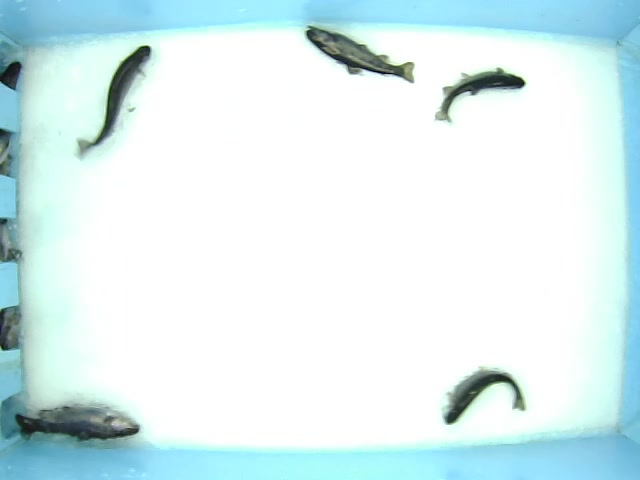fish: (414, 352, 543, 437), (70, 41, 165, 156), (293, 16, 417, 83), (427, 69, 528, 133), (14, 402, 157, 444)
